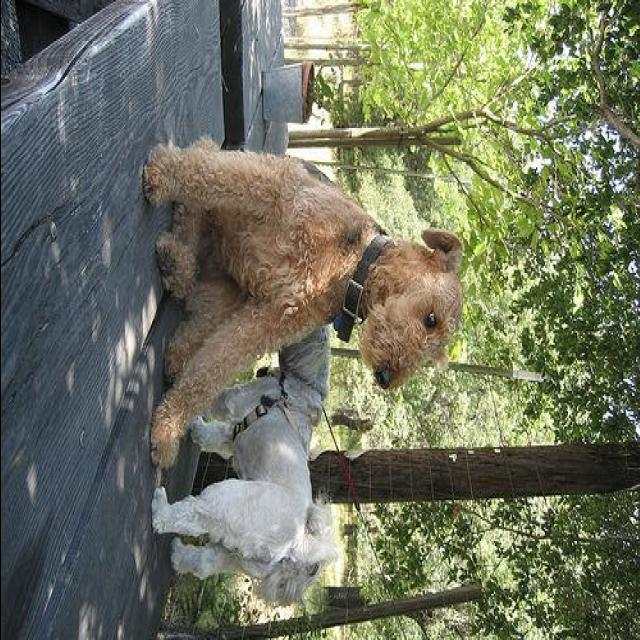airedale: (140, 128, 464, 474)
